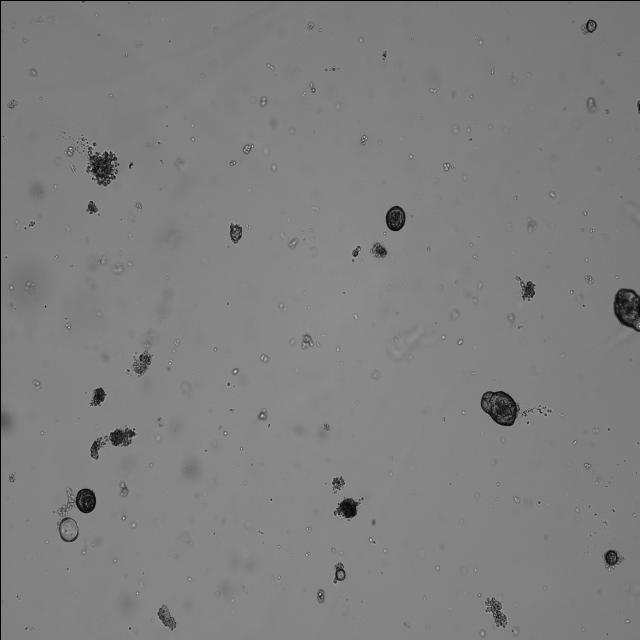alive: (478, 388, 518, 428), (611, 282, 640, 330), (70, 480, 98, 512), (53, 514, 82, 542), (383, 202, 407, 232), (334, 492, 358, 520), (227, 219, 244, 245), (601, 546, 619, 566), (332, 562, 348, 582), (582, 13, 598, 32)
dead: (81, 140, 123, 190), (481, 594, 511, 628), (105, 420, 138, 448), (515, 274, 540, 300), (86, 433, 108, 462), (87, 382, 109, 408), (130, 351, 152, 376), (157, 604, 179, 628)
